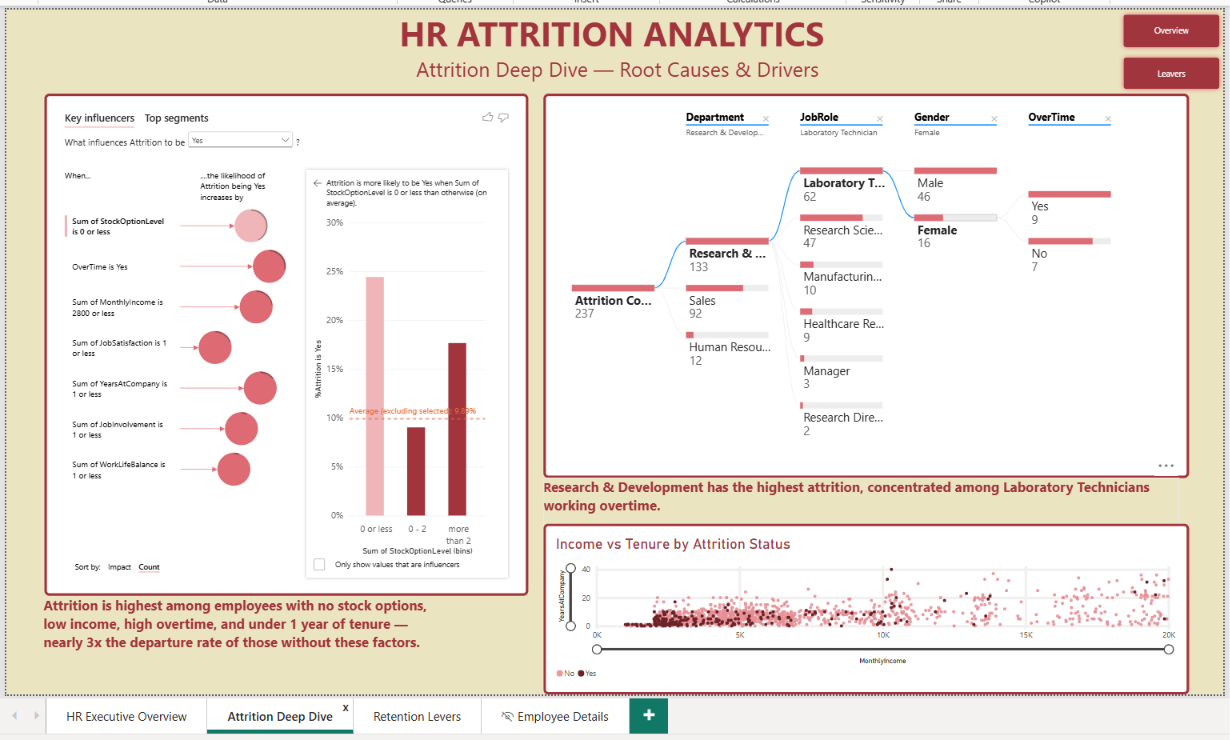

The page's visual inventory and layout, read from the dashboard file:
{"tool":"powerbi","page":{"name":"Attrition Deep Dive","canvas":[1920,1080],"ordinal":1},"visuals":[{"type":"keyDriversVisual","fields":{"ExplainBy":["HR DATA.OverTime","Sum(HR DATA.JobSatisfaction)","Sum(HR DATA.MonthlyIncome)","Sum(HR DATA.YearsAtCompany)","Sum(HR DATA.WorkLifeBalance)","Sum(HR DATA.JobInvolvement)","Sum(HR DATA.PercentSalaryHike)","Sum(HR DATA.StockOptionLevel)"],"Target":["HR DATA.Attrition"]},"box":[59.2,132.7,763.3,791.8],"z":0},{"type":"textbox","box":[283.6,0,1490.7,144.2],"z":1000},{"type":"textbox","box":[59,0,225,150],"z":2000},{"type":"textbox","box":[59,924,642,150],"z":3000},{"type":"decompositionTreeVisual","fields":{"Analyze":["HR DATA.Attrition Count"],"ExplainBy":["HR DATA.Department","HR DATA.JobRole","HR DATA.Gender","HR DATA.OverTime"]},"box":[846.9,132.7,1018.4,606.1],"z":4000},{"type":"textbox","box":[847.7,737.8,1002.9,144.8],"z":5000},{"type":"scatterChart","title":"Income vs Tenure by Attrition Status","fields":{"Series":["HR DATA.Attrition"],"X":["HR DATA.MonthlyIncome"],"Y":["HR DATA.YearsAtCompany"]},"box":[846.9,810.2,1018.4,269.4],"z":6000},{"type":"actionButton","box":[1753.1,0,167.3,67.3],"z":7000},{"type":"actionButton","box":[1753.1,67.3,167.3,65.3],"z":8000}]}

Visuals, with their boxes in screenshot pixels (x1, y1, x2, y2):
keyDriversVisual - HR DATA.OverTime x Sum(HR DATA.JobSatisfaction): rect(44, 90, 526, 590)
textbox: rect(186, 6, 1127, 98)
textbox: rect(44, 6, 186, 101)
textbox: rect(44, 590, 449, 685)
decompositionTreeVisual - HR DATA.Attrition Count x HR DATA.Department: rect(541, 90, 1185, 473)
textbox: rect(542, 473, 1176, 564)
"Income vs Tenure by Attrition Status" scatterChart: rect(541, 518, 1185, 688)
actionButton: rect(1114, 6, 1220, 49)
actionButton: rect(1114, 49, 1220, 90)
